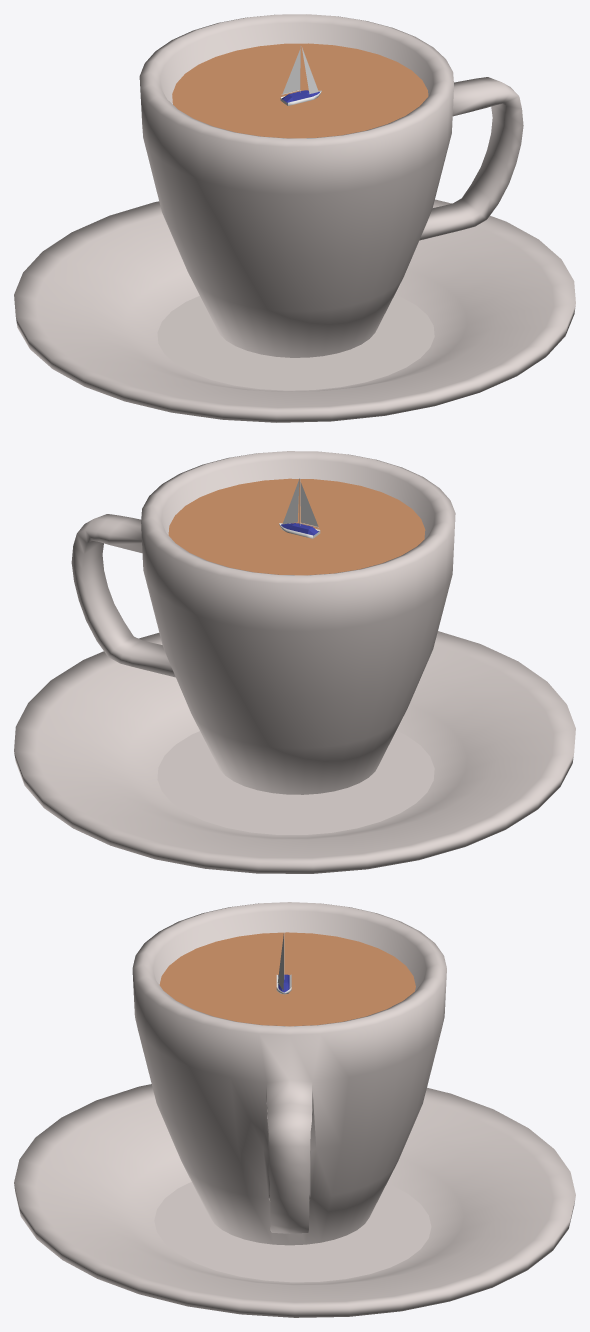
The model's file is coffeecup.glb.
The picture shows the model from 3 angles, top to bottom: view 1: azimuth 30°, elevation 25°; view 2: azimuth 150°, elevation 25°; view 3: azimuth 270°, elevation 25°; orthographic projection.
Parts seen in each view (by area): view 1: cup, plate, coffee, boat; view 2: plate, cup, coffee, boat; view 3: plate, cup, coffee.
Boxes of the visible parts, x1,y1,x2,y2 form: cup: (139,14,523,357); plate: (14,199,575,422); coffee: (172,43,428,138); boat: (280,46,321,105); plate: (14,631,575,873); cup: (71,451,455,794); coffee: (168,478,425,575); boat: (279,478,320,538); plate: (14,1084,575,1317); cup: (132,902,446,1245); coffee: (159,932,415,1026).
Bounding box in the file's own units: 7.94 × 4.68 × 7.94.
